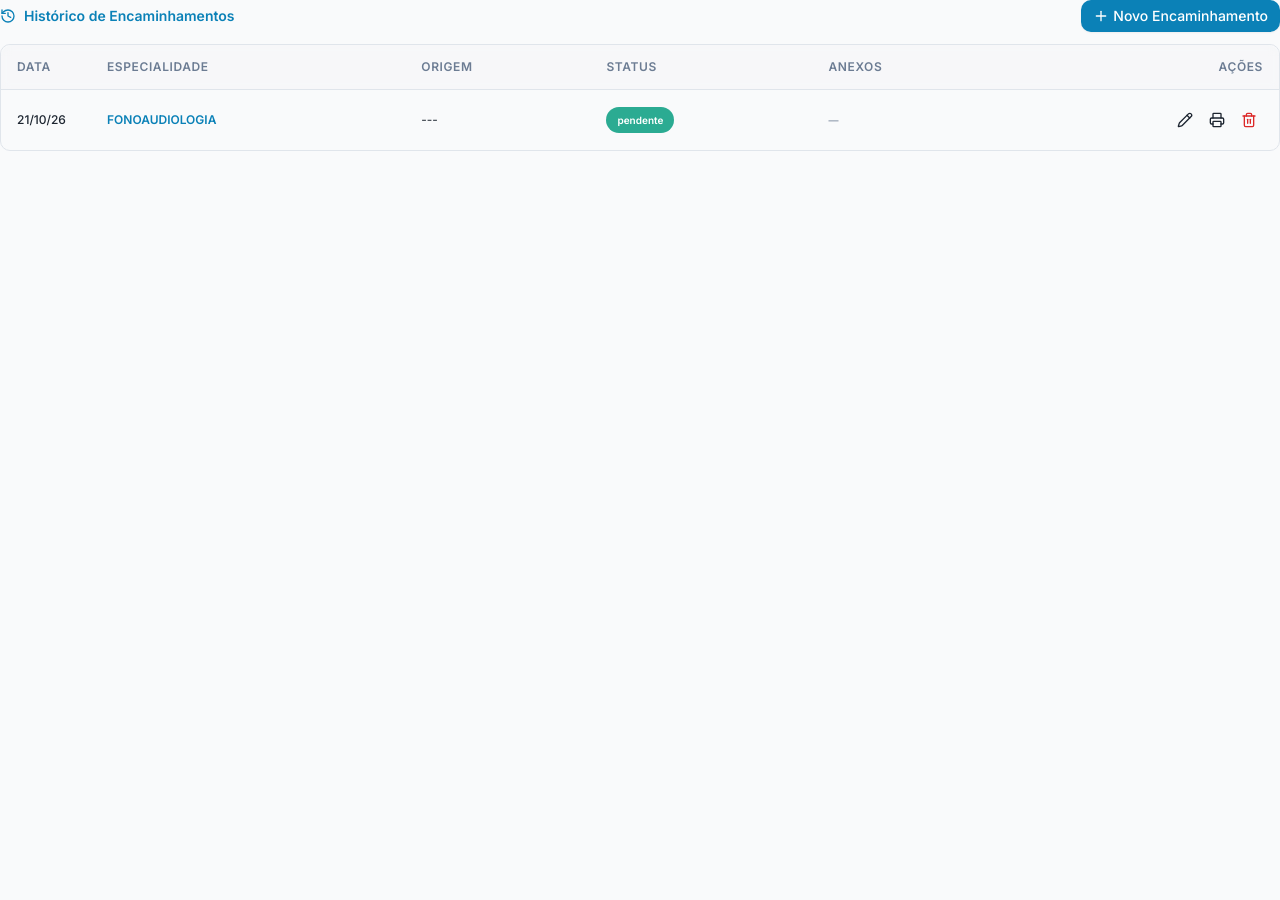
Test: sincronização do histórico e datas › notifica o mais recente ao carregar e exibe data correta na tabela e no modal
Click the text "21/10/26". click: click(46, 119)
box: [1, 89, 91, 150]
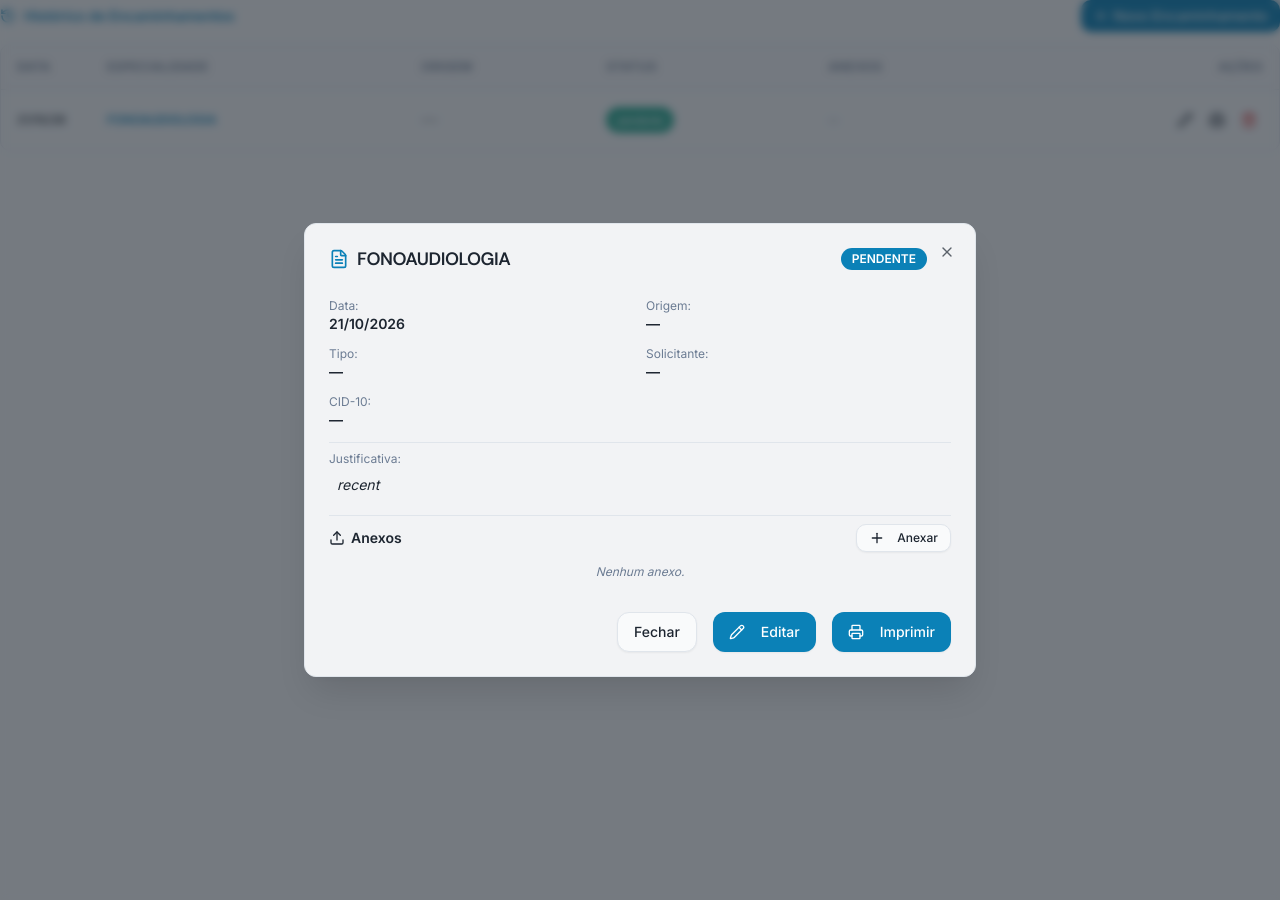
Now the text "21/10/2026" is shown, box [329, 315, 405, 332]
